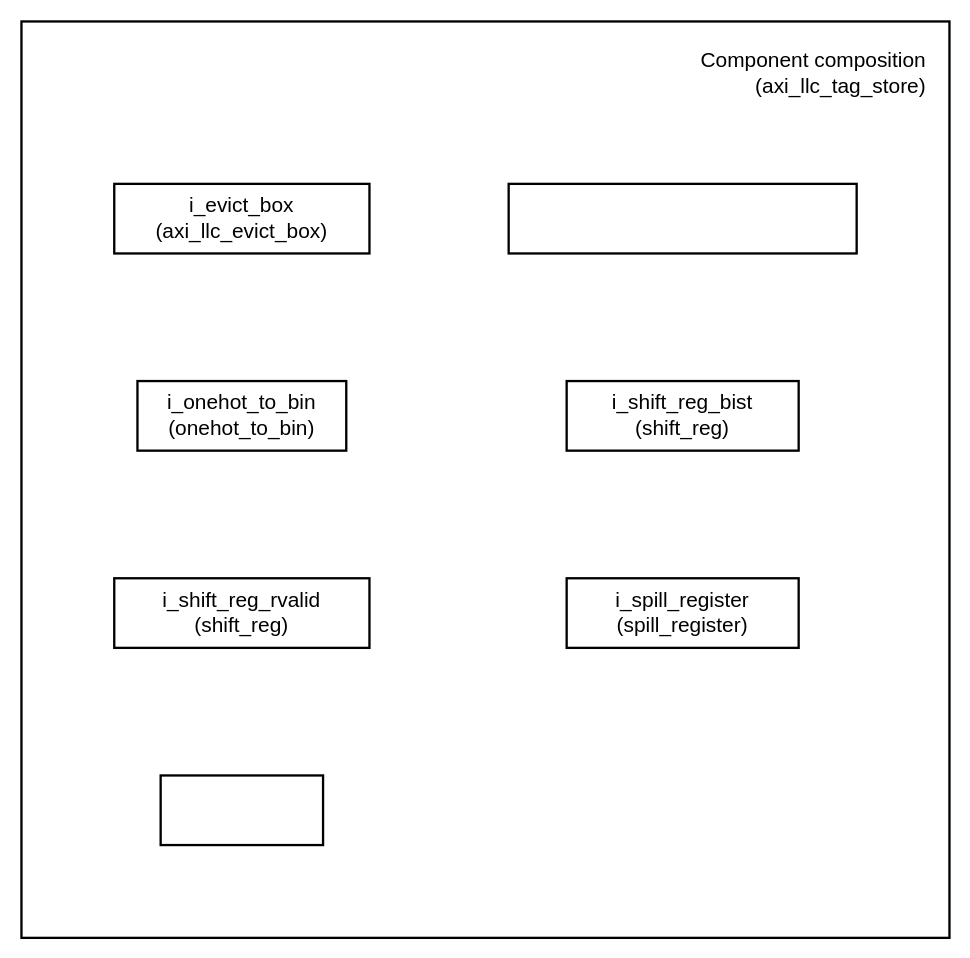
Some shapes in this 970 by 958 pixel diagram are drawn without their labels. The centre of each missing label's shape, as x and y in pixels:
"i_tag_pattern_gen (axi_llc_tag_pattern_gen)" belongs at [682,218].
"i_tag_store (tc_sram)" belongs at [241,810].
